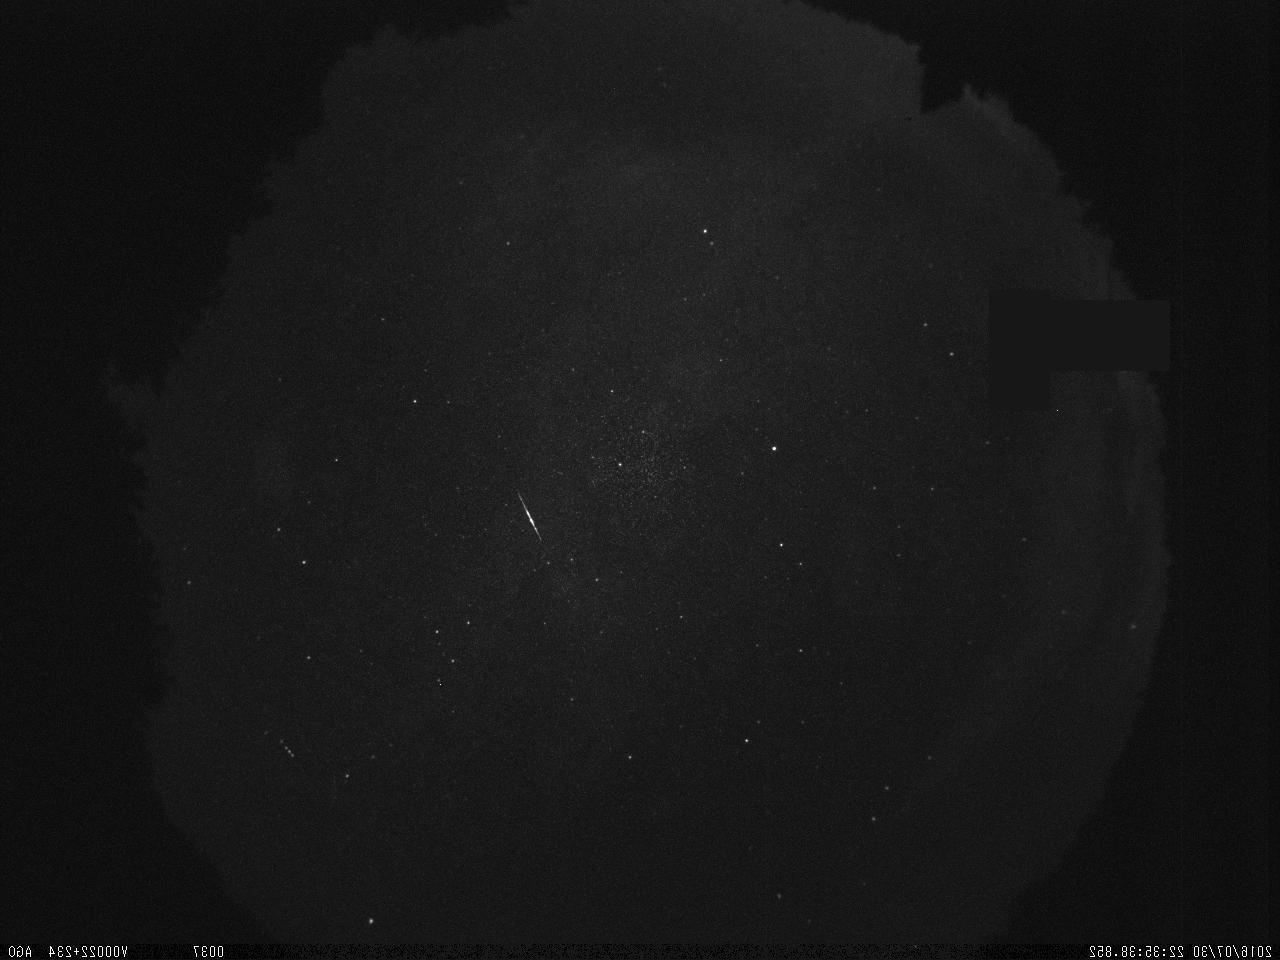meteor: (495, 469, 558, 562)
